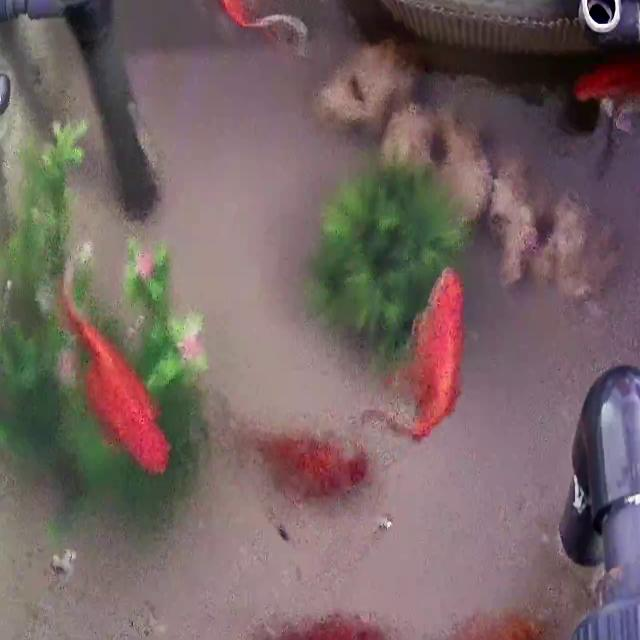fish: (53, 256, 173, 483), (398, 272, 476, 438), (242, 415, 384, 506), (185, 0, 307, 71), (554, 62, 640, 135), (274, 606, 394, 640), (431, 606, 551, 640)
